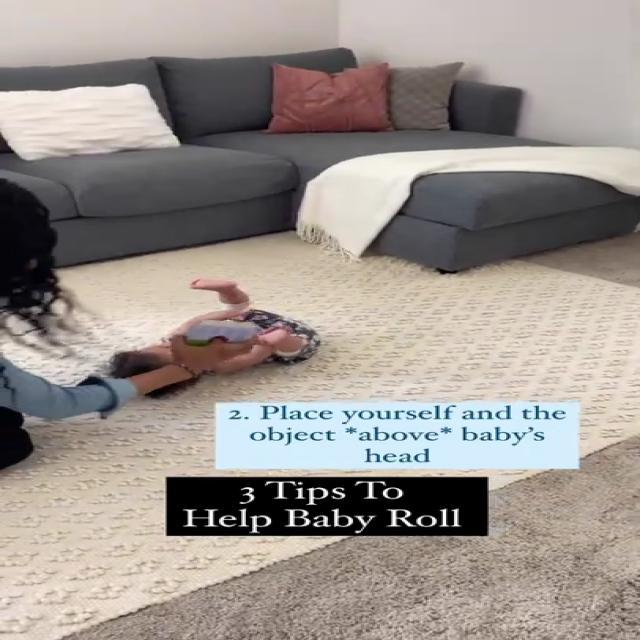baby: (106, 272, 328, 394)
